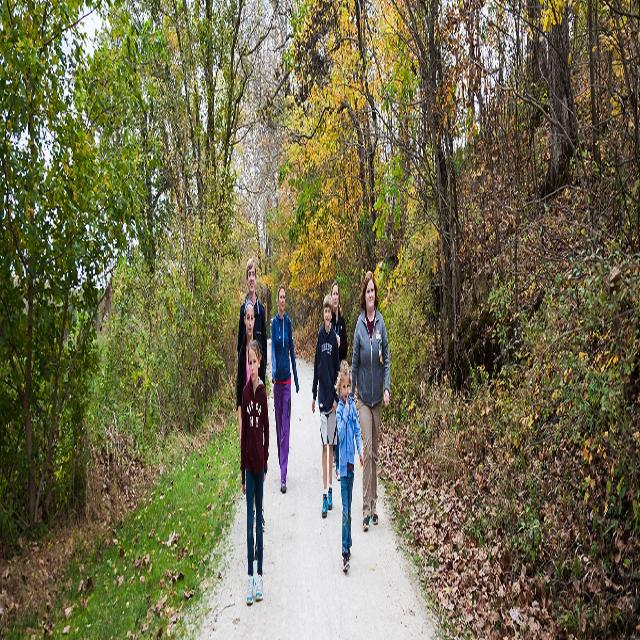body: (348, 267, 391, 532), (239, 337, 270, 608), (310, 292, 340, 520), (333, 356, 364, 574), (270, 284, 300, 496), (236, 299, 266, 451), (236, 255, 267, 374), (330, 280, 346, 482)
